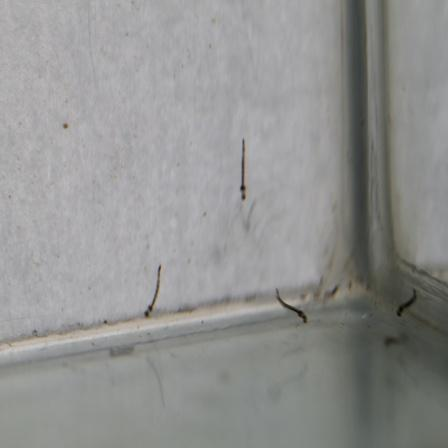Jentik-Nyamuk: (140, 261, 166, 321), (273, 285, 310, 327), (236, 136, 251, 205), (392, 286, 421, 319)
